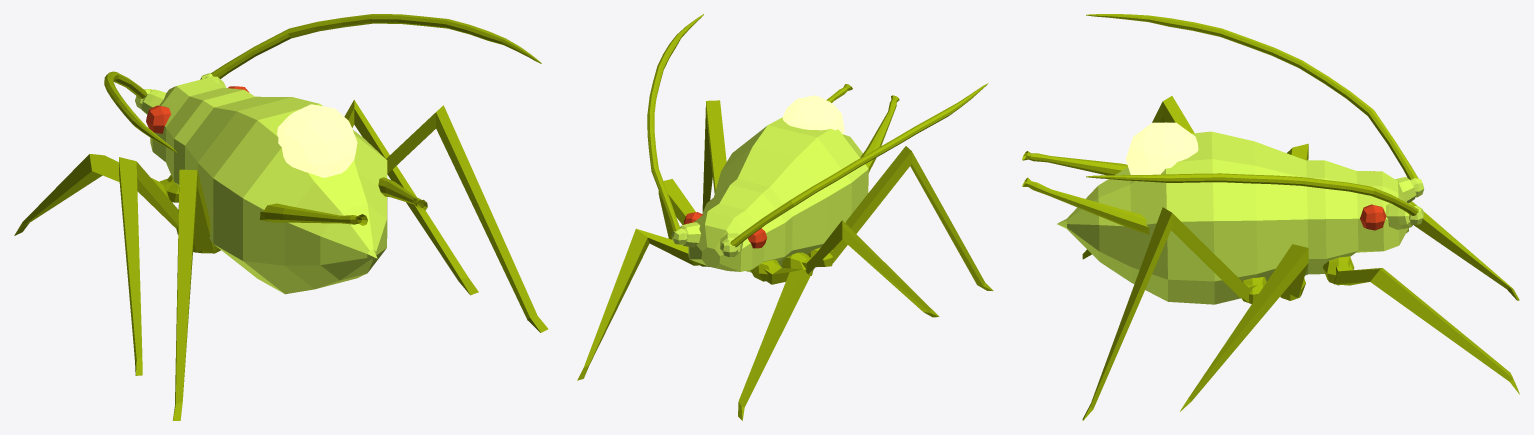
The model's file is Aphid IL1 import.fbx.
The picture shows the model from 3 angles, left to right: view 1: azimuth 30°, elevation 25°; view 2: azimuth 150°, elevation 25°; view 3: azimuth 270°, elevation 25°; orthographic projection. The views are drawn at different scales.
Parts seen in each view (by area): view 1: body, Cube.004, Cube.005, Circle.002, Icosphere, Cube.006, Circle, lft eye; view 2: body, Cube.006, Cube.004, Circle.002, Cube.005, Icosphere, Circle, Circle.001, Cube; view 3: body, Circle.002, Cube.004, Cube.006, Cube.005, Icosphere, Circle, Circle.001, rt.eye.
Boxes of the visible parts, <box> form: body: <box>150,77,387,294</box>; Cube.004: <box>172,105,548,420</box>; Cube.005: <box>119,100,478,375</box>; Circle.002: <box>104,14,541,152</box>; Icosphere: <box>277,104,357,177</box>; Cube.006: <box>14,154,173,235</box>; Circle: <box>260,177,427,225</box>; lft eye: <box>146,105,170,133</box>; body: <box>688,117,868,272</box>; Cube.006: <box>577,228,810,420</box>; Cube.004: <box>702,100,993,290</box>; Circle.002: <box>647,14,988,247</box>; Cube.005: <box>658,179,939,317</box>; Icosphere: <box>782,95,844,134</box>; Circle: <box>826,84,899,173</box>; Circle.001: <box>680,222,743,256</box>; Cube: <box>671,228,738,257</box>; body: <box>1057,131,1408,304</box>; Circle.002: <box>1086,14,1418,215</box>; Cube.004: <box>1082,96,1256,420</box>; Cube.006: <box>1334,201,1519,394</box>; Cube.005: <box>1180,143,1308,411</box>; Icosphere: <box>1125,122,1198,174</box>; Circle: <box>1022,151,1149,234</box>; Circle.001: <box>1386,177,1416,229</box>; rt.eye: <box>1360,204,1386,230</box>.
Bounding box in the file's own units: 255 × 180 × 322.
